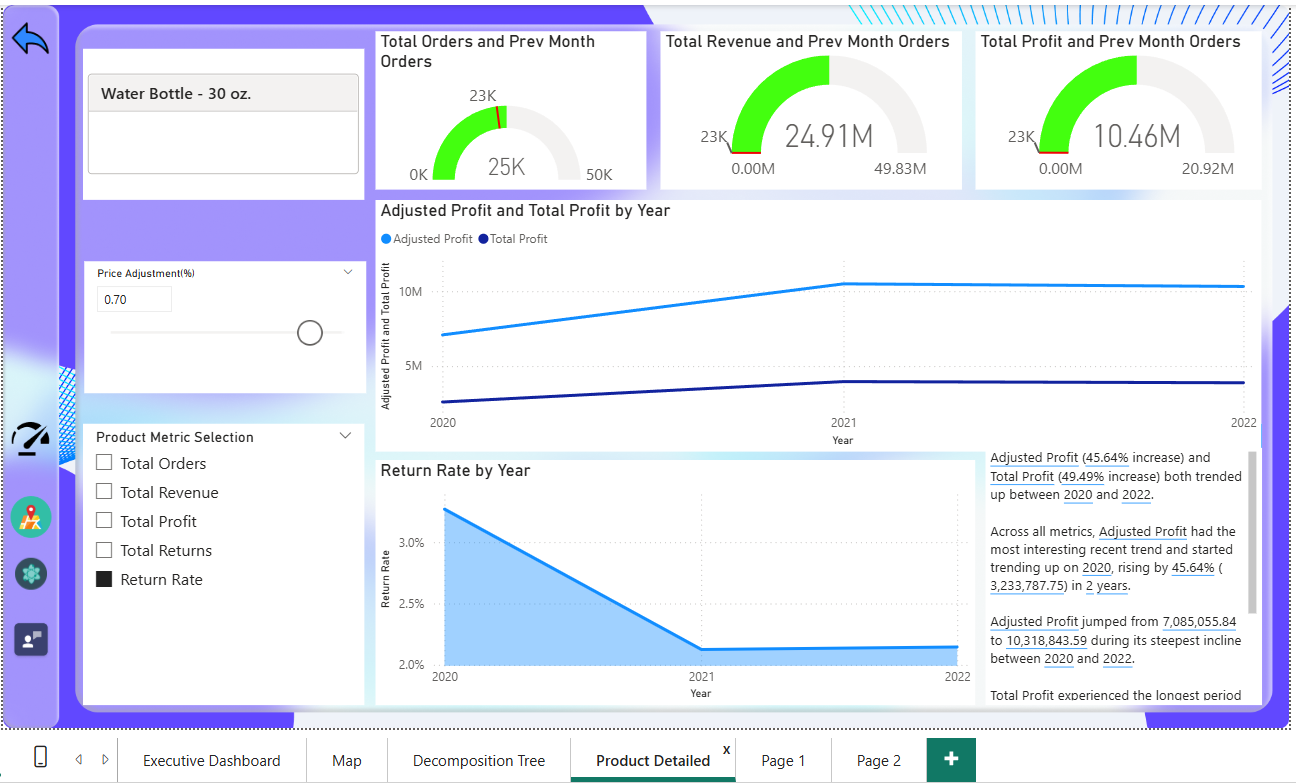

The dashboard page shown, as its layout file describes it:
{"tool":"powerbi","page":{"name":"Product Detail","canvas":[1280,720],"ordinal":2},"visuals":[{"type":"shape","box":[0,0,45,720],"z":0},{"type":"actionButton","box":[2.5,516.7,45.6,37.8],"z":0,"group":"g1"},{"type":"gauge","title":"Monthly Orders vs. Target","fields":{"Y":["Measure Table.Total Orders"],"MaxValue":["Measure Table.Order Target"]},"box":[383.7,41.5,236.9,203.7],"z":1000},{"type":"actionButton","box":[3.3,563.4,45.6,37.8],"z":1000,"group":"g1"},{"type":"gauge","title":"Monthly Revenue vs. Target","fields":{"Y":["Measure Table.Total Revenue"],"MaxValue":["Measure Table.Revenue Target"]},"box":[683.5,41.5,236.9,203.7],"z":2000},{"type":"actionButton","box":[3.3,611.1,45.6,37.8],"z":2000,"group":"g1"},{"type":"gauge","title":"Monthly Profit vs. Target","fields":{"Y":["Measure Table.Total Profit"],"MaxValue":["Measure Table.Profit Target"]},"box":[983.4,41.8,236.2,203.5],"z":3000},{"type":"actionButton","box":[3.3,657.8,45.6,37.8],"z":3000,"group":"g1"},{"type":"lineChart","title":"Profit Trending","fields":{"Category":["Calendar Lookup.Date Hierarchy.Year","Calendar Lookup.Date Hierarchy.Start of Month","Calendar Lookup.Date Hierarchy.Start of Week","Calendar Lookup.Date Hierarchy.Date"],"Y":["Measure Table.Total Profit","Measure Table.Adjusted Profit"]},"box":[290.5,237.4,952.8,221.5],"z":4000},{"type":"areaChart","title":"Return Trending","fields":{"Y":["Measure Table.Total Profit"],"Category":["Calendar Lookup.Date Hierarchy.Year","Calendar Lookup.Date Hierarchy.Start of Month","Calendar Lookup.Date Hierarchy.Start of Week","Calendar Lookup.Date Hierarchy.Date"]},"box":[290.5,471.3,708.7,221.5],"z":5000},{"type":"card","fields":{"Values":["Min(Product Lookup.ProductName)"]},"box":[83.6,61,235.1,134.5],"z":6000},{"type":"textbox","box":[83.6,32.8,136.8,36.2],"z":7000},{"type":"group","id":"g1","title":"Navigation Buttons","box":[2.5,516.7,46.4,178.9],"z":8000},{"type":"slicer","fields":{"Values":["Price Adjustment (%).Price Adjustment (%)"]},"box":[83.6,245.3,193.3,123.2],"z":9000},{"type":"slicer","fields":{"Values":["Product Metric Selection.Product Metric Selection"]},"box":[83.6,477,193.3,180.8],"z":10000},{"type":"textbox","title":"Report Summary","box":[999.2,478.1,253.2,208],"z":11000}]}

Visuals, with their boxes on the page's 1280x720 design canvas (x1, y1, x2, y2). These are canvas units, not pixel positions in the 1296x783 screenshot, which may show the page scaled, cropped or inside an application window:
shape: x1=0, y1=0, x2=45, y2=720
actionButton: x1=2, y1=517, x2=48, y2=554
"Monthly Orders vs. Target" gauge: x1=384, y1=42, x2=621, y2=245
actionButton: x1=3, y1=563, x2=49, y2=601
"Monthly Revenue vs. Target" gauge: x1=684, y1=42, x2=920, y2=245
actionButton: x1=3, y1=611, x2=49, y2=649
"Monthly Profit vs. Target" gauge: x1=983, y1=42, x2=1220, y2=245
actionButton: x1=3, y1=658, x2=49, y2=696
"Profit Trending" lineChart: x1=290, y1=237, x2=1243, y2=459
"Return Trending" areaChart: x1=290, y1=471, x2=999, y2=693
card - Min(Product Lookup.ProductName): x1=84, y1=61, x2=319, y2=196
textbox: x1=84, y1=33, x2=220, y2=69
"Navigation Buttons" group: x1=2, y1=517, x2=49, y2=696
slicer - Price Adjustment (%).Price Adjustment (%): x1=84, y1=245, x2=277, y2=368
slicer - Product Metric Selection.Product Metric Selection: x1=84, y1=477, x2=277, y2=658
"Report Summary" textbox: x1=999, y1=478, x2=1252, y2=686
